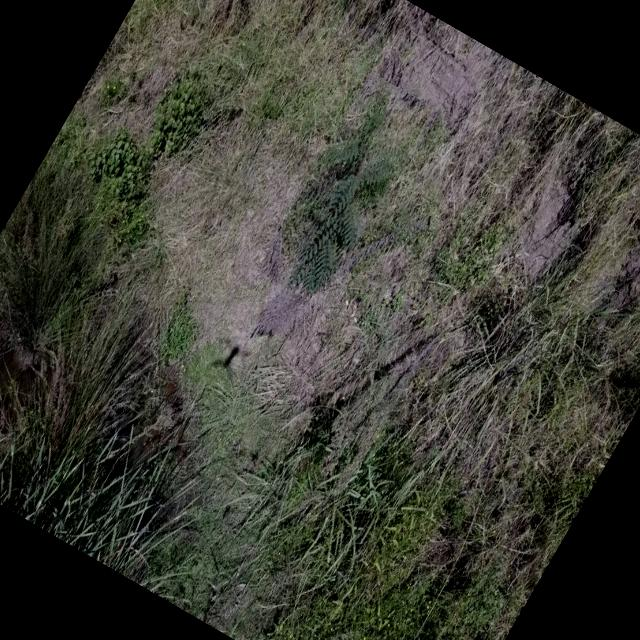Mysore-Thorn-Weed: (256, 72, 434, 307)
